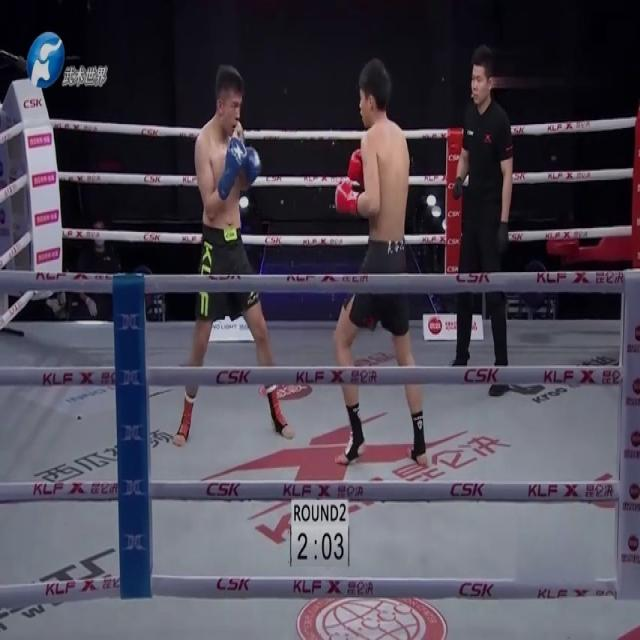fight: (170, 46, 432, 482)
non-fight: (446, 40, 515, 392)
